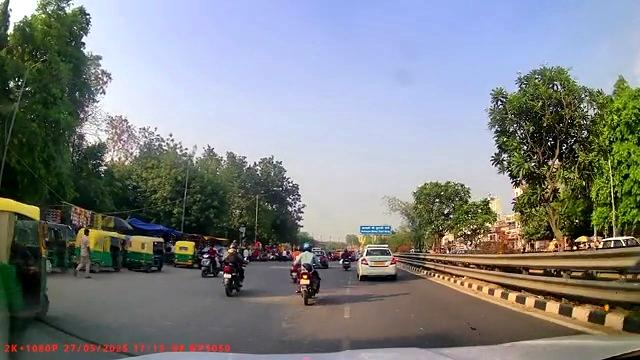motorcycle_with_helmet: (292, 240, 324, 306), (221, 243, 247, 297)
